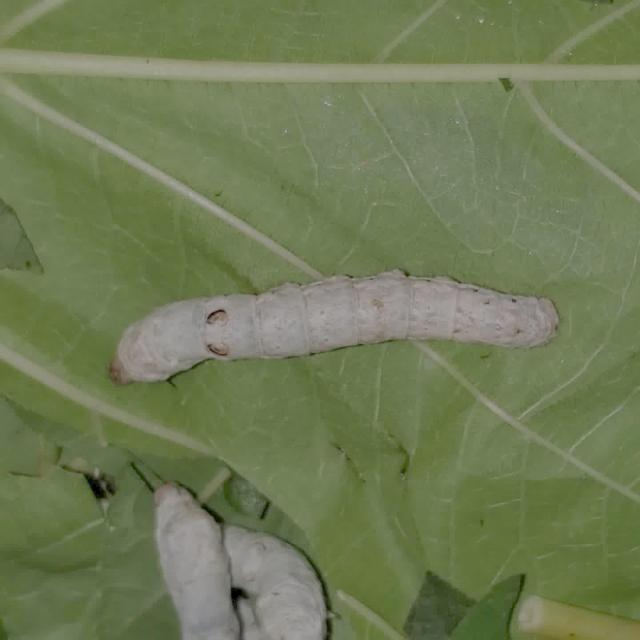Healthy: (108, 242, 591, 410)
